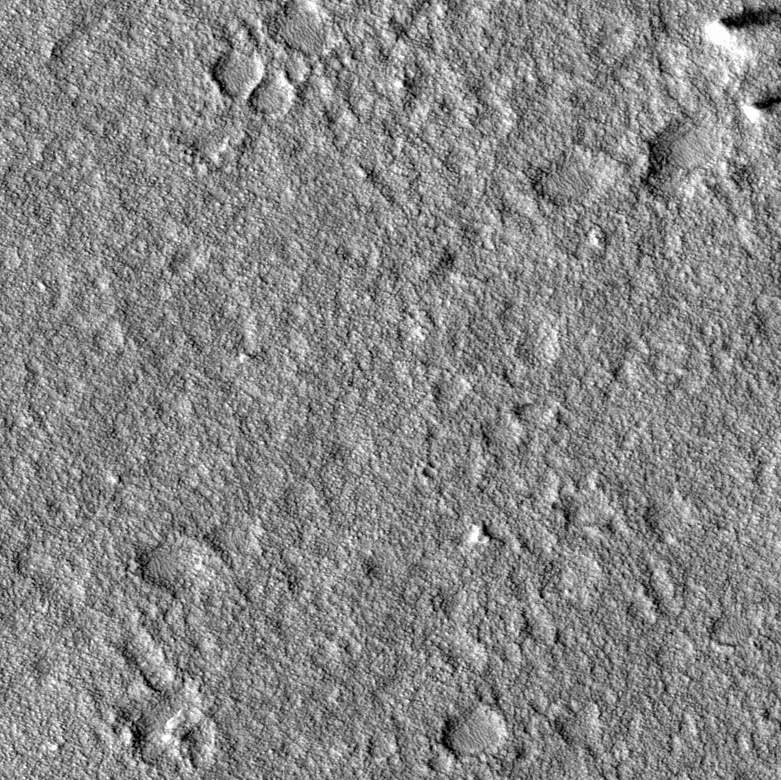dust_devil: (702, 5, 781, 63), (739, 92, 781, 125)
